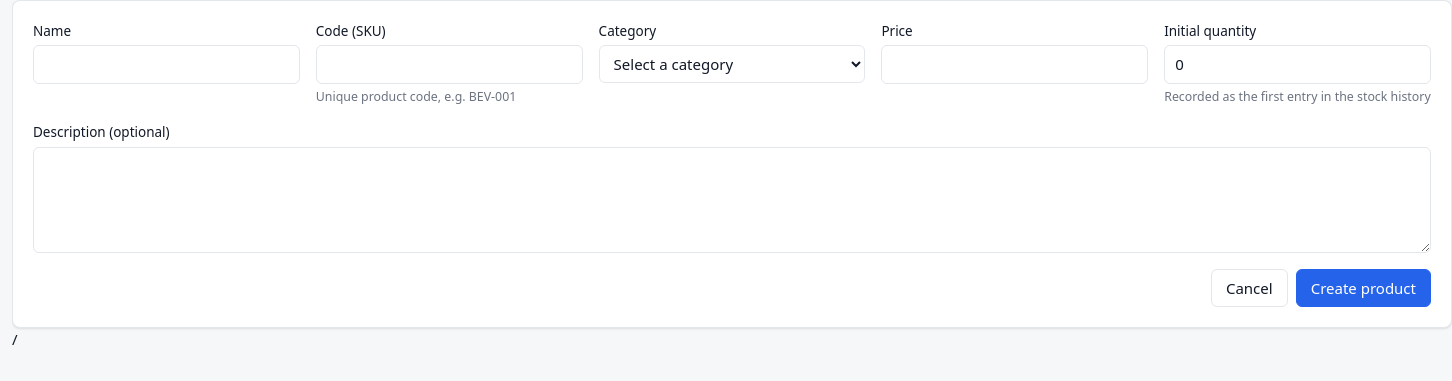
Test: ProductForm › caps the initial quantity at the maximum stock
Replace the text in the number field labelled "Initial quantity" with "1000000001". click: coordinates (1298, 65)
box: 1164,45 -> 1431,84
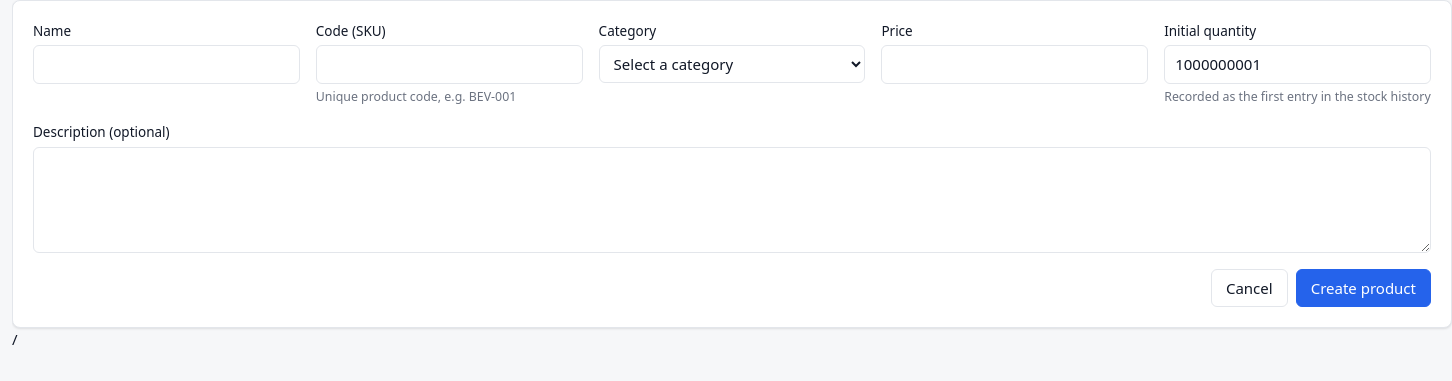
Click the button "Create product". click: coordinates (1363, 288)
box: 1296,269 -> 1431,307
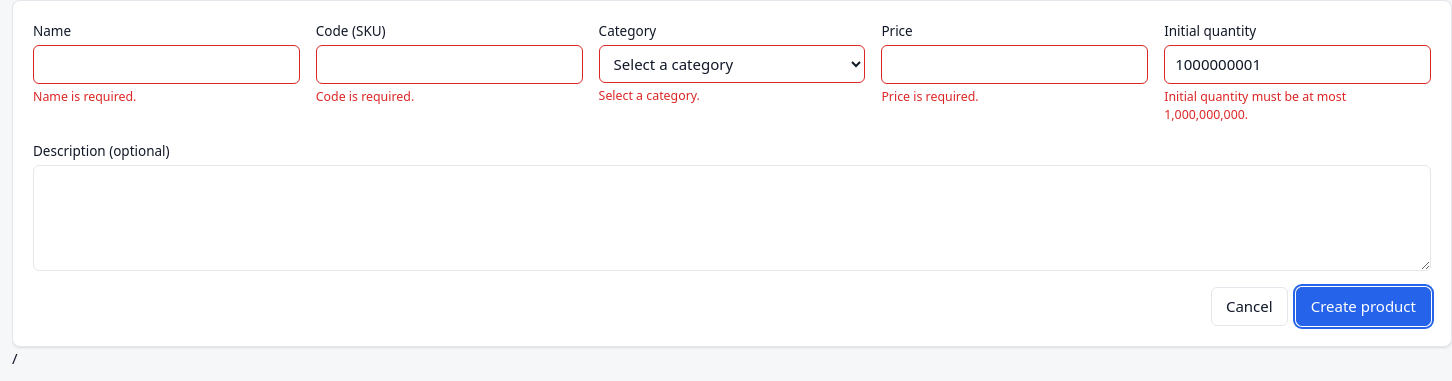
Expected: the text "Initial quantity must be at most 1,000,000,000." is shown, 1164,88 -> 1346,123
